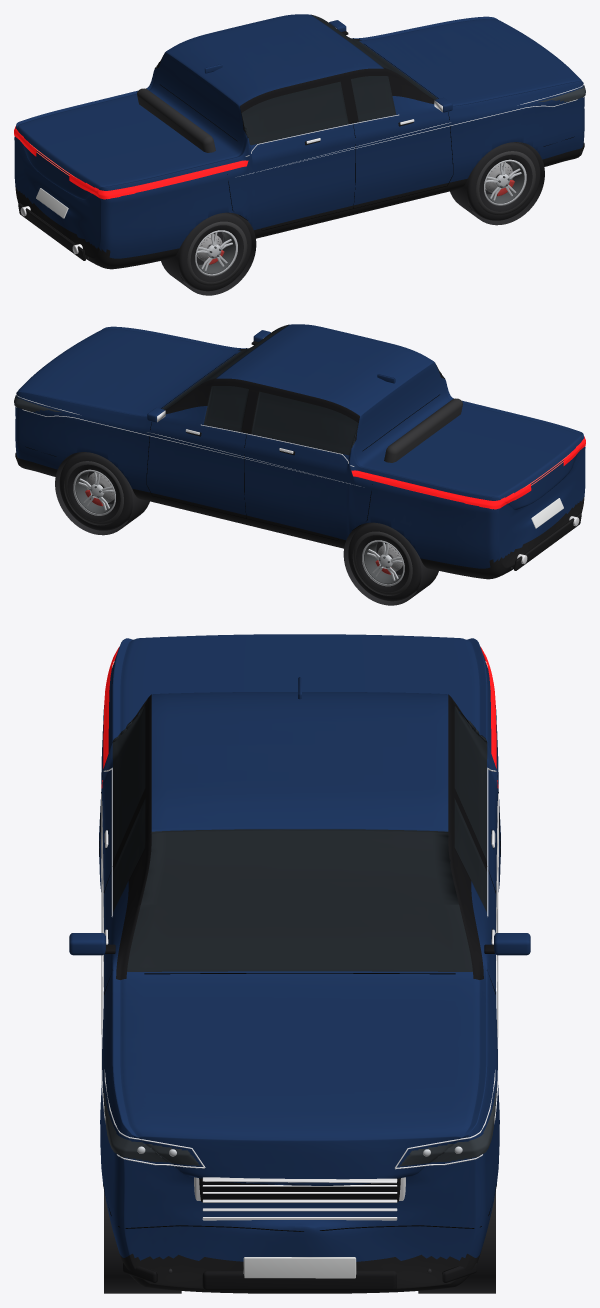
The model's file is pickup.glb.
The picture shows the model from 3 angles, top to bottom: view 1: azimuth 30°, elevation 25°; view 2: azimuth 150°, elevation 25°; view 3: azimuth 270°, elevation 25°; orthographic projection. The views are drawn at different scales.
Visible parts, largest first — view 1: karosserie, bt:rad_hr, bt:rad_vr, bt:sitze, rueckleuchte_-1, radhausschale.003, radhausschale.001, diffusor, scheinwerfer_rand_-1, kennzeichen_hinten, bt:bremse_vr; view 2: karosserie, bt:rad_hl, bt:rad_vl, bt:sitze, rueckleuchte_1, radhausschale, radhausschale.002, diffusor, scheinwerfer_rand_1, kennzeichen_hinten, bt:bremse_vl; view 3: karosserie, lufteinlass, grill, kennzeichen_vorn, radhausschale.001, radhausschale, scheinwerfer_1, scheinwerfer_-1, scheinwerfer_rand_-1, scheinwerfer_rand_1, grill_lamelle_5, spiegel_1 (+1 smaller).
Part boxes in pixels (left/top/right/bottom): karosserie: left=14, top=14, right=584, bottom=269; bt:rad_hr: left=178, top=212, right=251, bottom=291; bt:rad_vr: left=467, top=142, right=540, bottom=220; bt:sitze: left=137, top=88, right=215, bottom=152; rueckleuchte_-1: left=69, top=160, right=248, bottom=199; radhausschale.003: left=161, top=213, right=256, bottom=295; radhausschale.001: left=450, top=142, right=544, bottom=225; diffusor: left=18, top=203, right=85, bottom=260; scheinwerfer_rand_-1: left=239, top=84, right=584, bottom=176; kennzeichen_hinten: left=36, top=188, right=68, bottom=218; bt:bremse_vr: left=485, top=162, right=514, bottom=196; karosserie: left=15, top=324, right=585, bottom=579; bt:rad_hl: left=348, top=522, right=421, bottom=601; bt:rad_vl: left=59, top=452, right=132, bottom=530; bt:sitze: left=384, top=398, right=462, bottom=462; rueckleuchte_1: left=351, top=470, right=531, bottom=509; radhausschale: left=55, top=452, right=149, bottom=535; radhausschale.002: left=343, top=523, right=438, bottom=605; diffusor: left=514, top=513, right=581, bottom=570; scheinwerfer_rand_1: left=15, top=394, right=360, bottom=486; kennzeichen_hinten: left=531, top=498, right=563, bottom=528; bt:bremse_vl: left=85, top=472, right=114, bottom=506; karosserie: left=99, top=634, right=500, bottom=1293; lufteinlass: left=202, top=1270, right=397, bottom=1290; grill: left=199, top=1178, right=400, bottom=1202; kennzeichen_vorn: left=243, top=1257, right=356, bottom=1278; radhausschale.001: left=104, top=1191, right=181, bottom=1293; radhausschale: left=418, top=1191, right=495, bottom=1293; scheinwerfer_1: left=399, top=1088, right=496, bottom=1166; scheinwerfer_-1: left=103, top=1088, right=200, bottom=1165; scheinwerfer_rand_-1: left=101, top=793, right=205, bottom=1168; scheinwerfer_rand_1: left=395, top=793, right=498, bottom=1169; grill_lamelle_5: left=202, top=1177, right=397, bottom=1183; spiegel_1: left=494, top=933, right=530, bottom=955.
Bounding box in the file's own units: 5.37 × 1.85 × 2.13.
